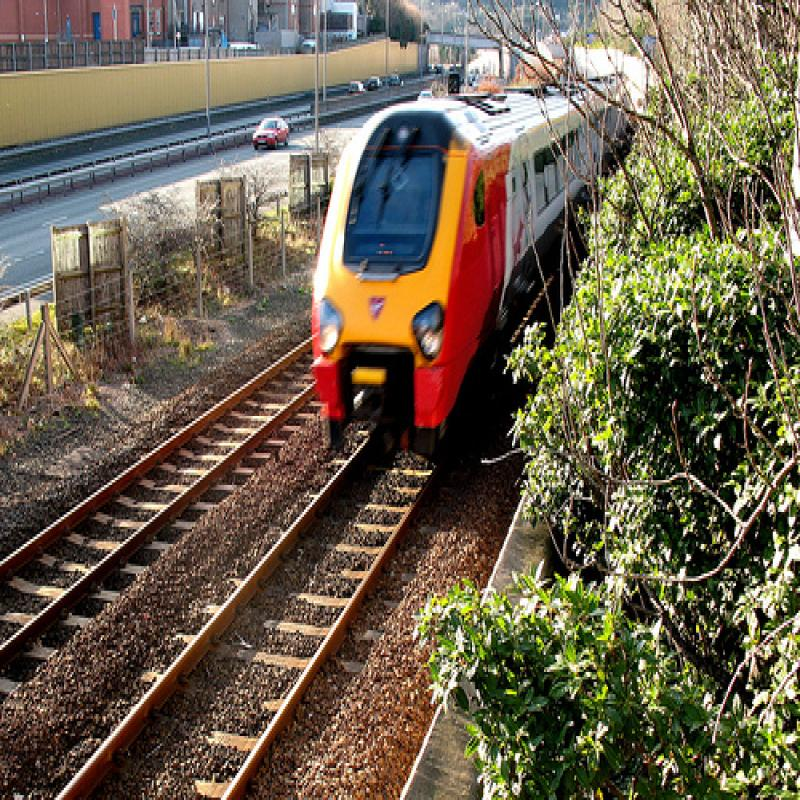train: (312, 72, 637, 464)
